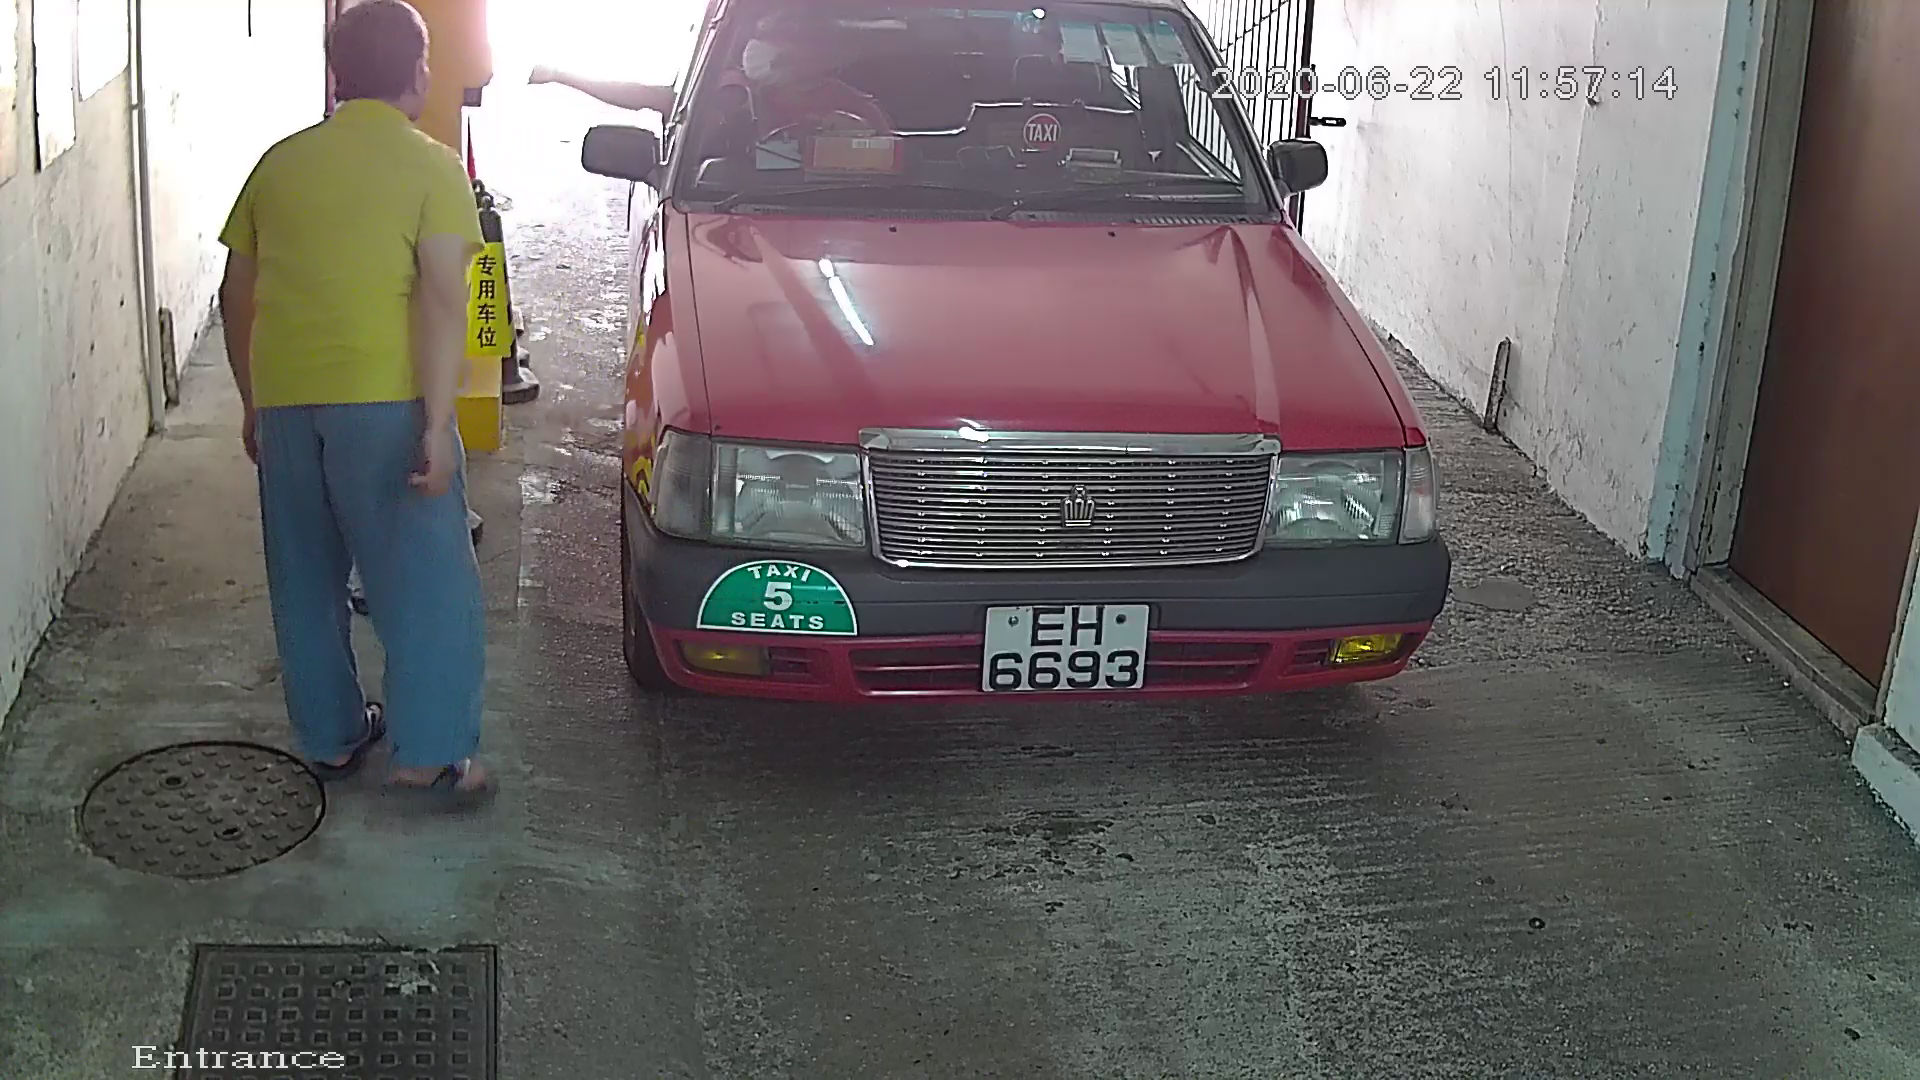taxi: (535, 3, 1505, 814)
taxi_mark: (682, 524, 882, 676)
